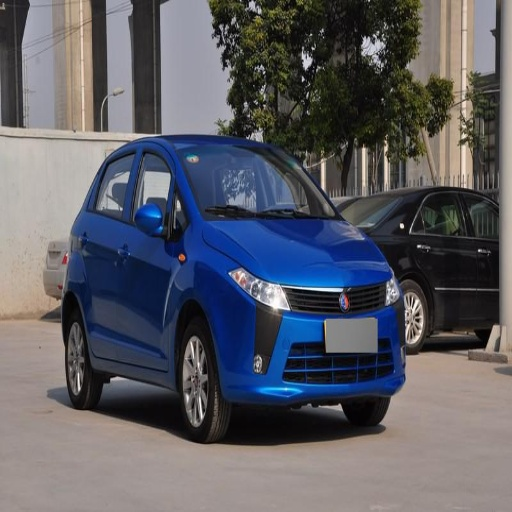front_bumper: (215, 275, 421, 406)
front_right_door: (120, 143, 180, 368)
front_right_light: (229, 267, 291, 312)
